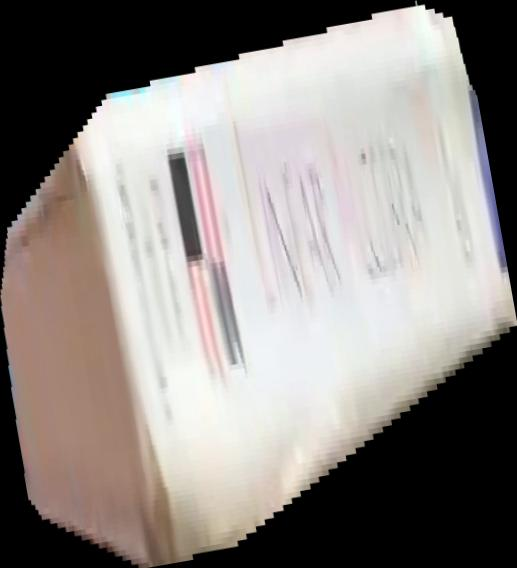flat: (1, 1, 517, 568)
